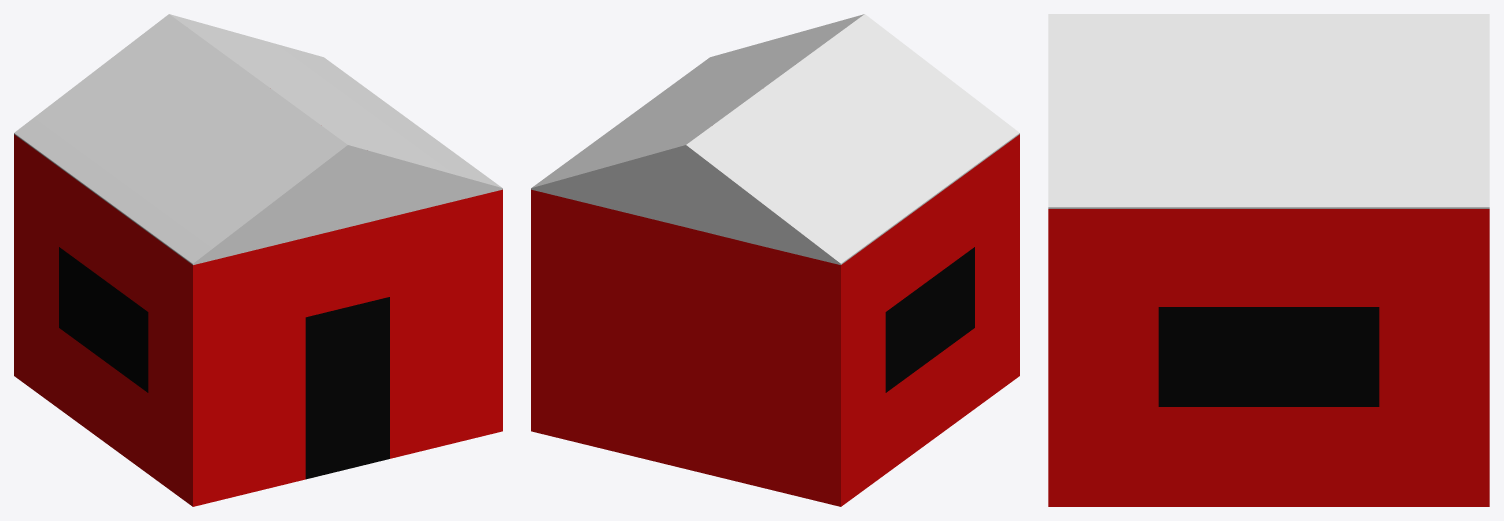
Rendered from casa.fbx.
3 views of the same model, side by side, from view 1: azimuth 30°, elevation 25°; view 2: azimuth 150°, elevation 25°; view 3: azimuth 270°, elevation 25° (orthographic). The views are drawn at different scales.
Visible parts, largest first — view 1: pCube1; view 2: pCube1; view 3: pCube1.
Part boxes in pixels (x1,y1,x2,y2): pCube1: (14, 14, 502, 506); pCube1: (531, 14, 1019, 506); pCube1: (1048, 14, 1489, 506).
Size of the model in its own units: 1 by 1 by 1.
